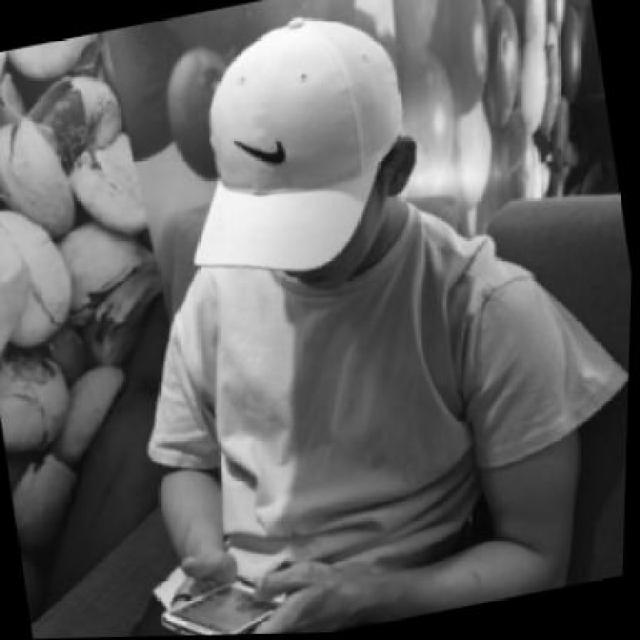hat: (150, 0, 424, 294)
